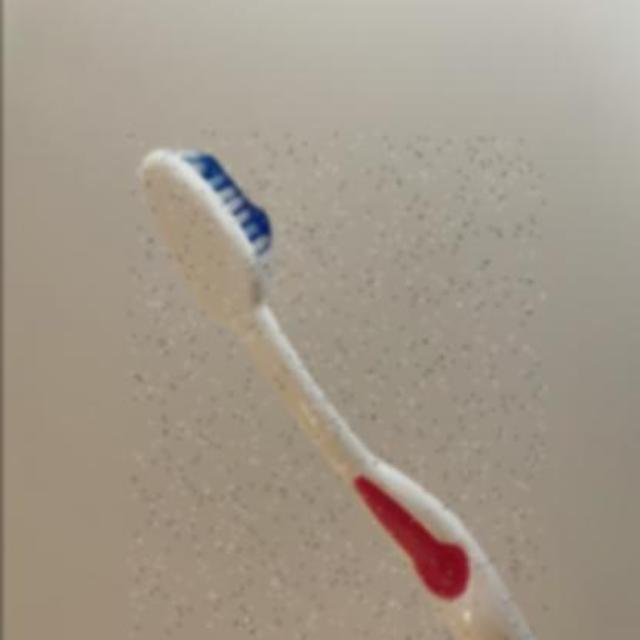toothbrush: (128, 132, 544, 640)
